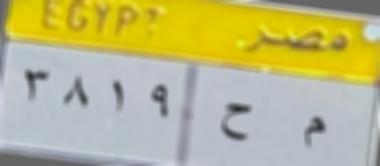1: (106, 75, 136, 119)
3: (14, 65, 53, 106)
7aa: (217, 100, 254, 146)
8: (59, 76, 95, 117)
9: (144, 83, 179, 124)
meem: (292, 105, 331, 162)
